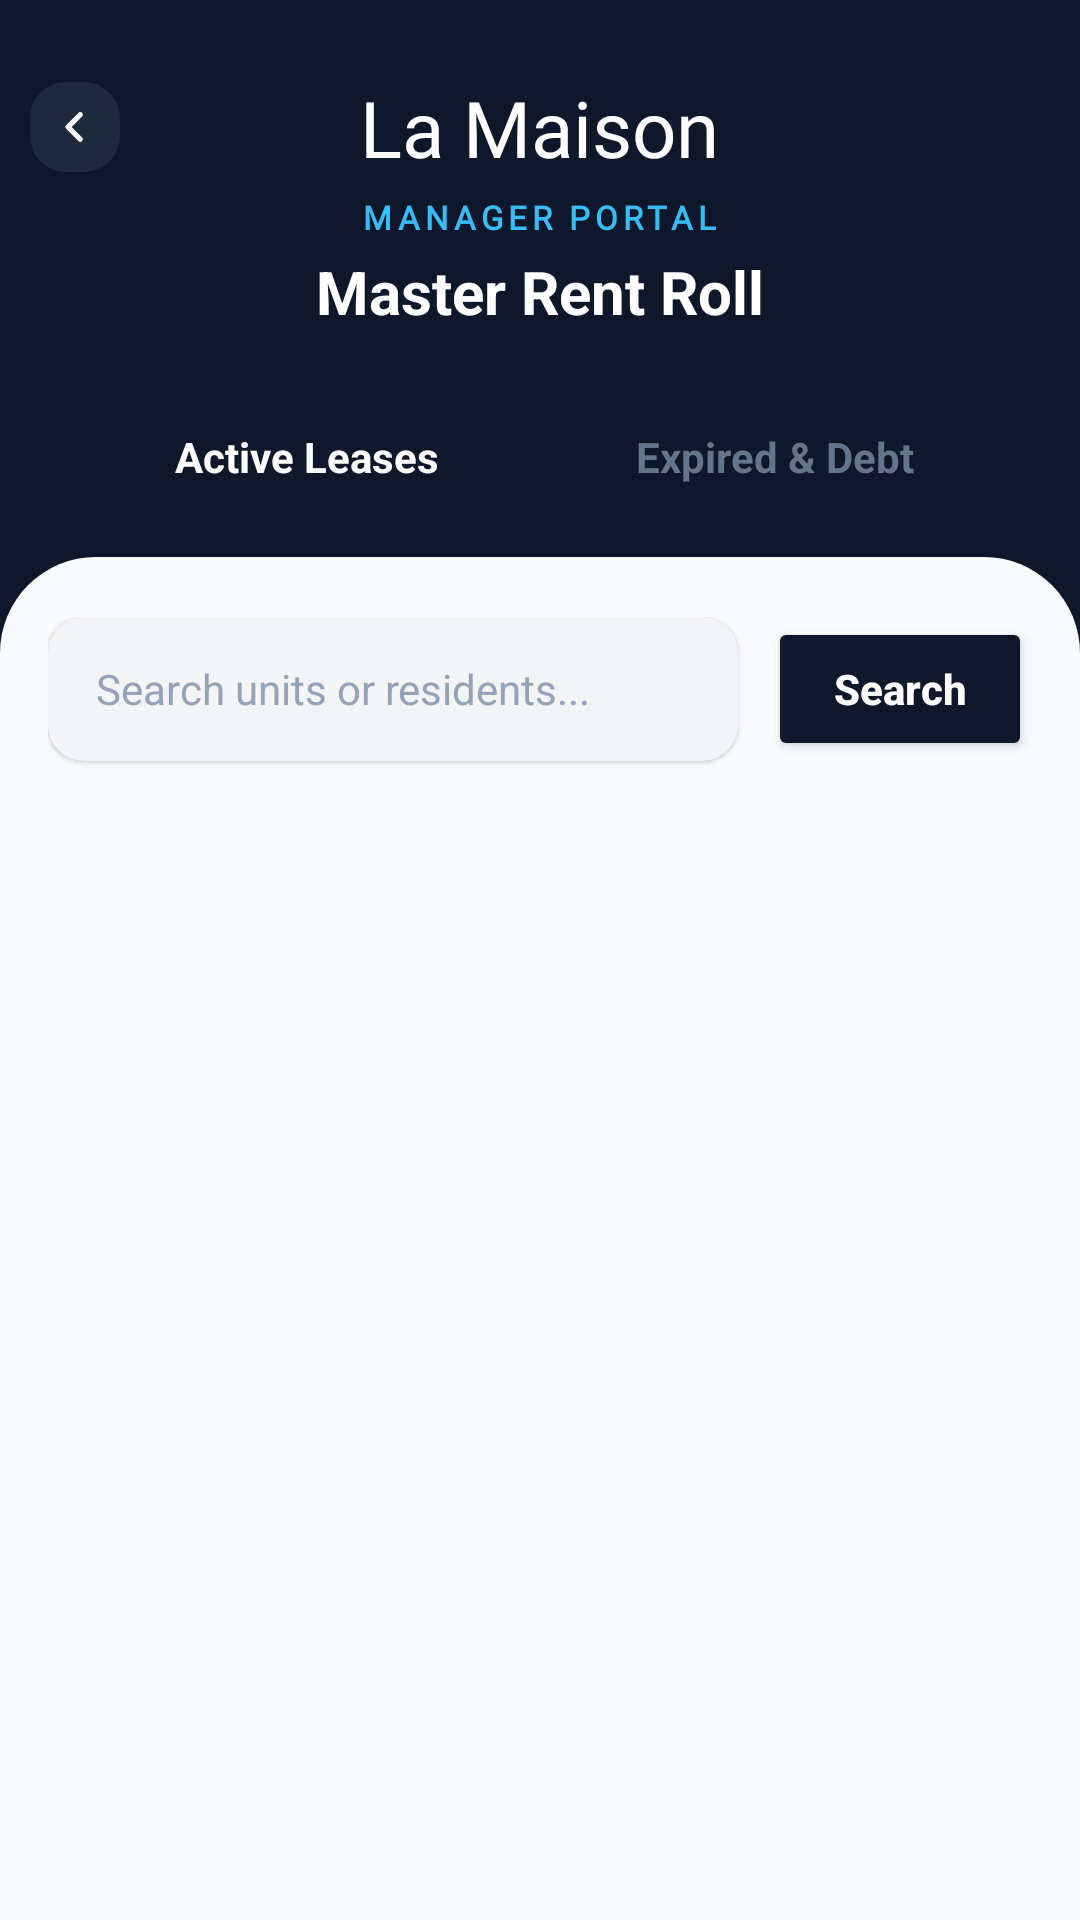

Point at icon controls on the screen. Image size 1080x1920, points as [x,y].
chevron left: [75,127]
